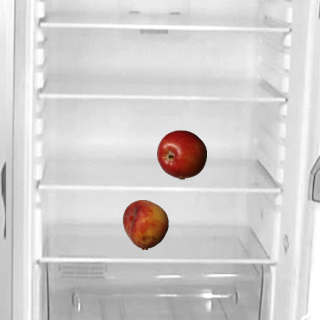Apple Braeburn: (156, 129, 206, 179)
Peach: (120, 199, 170, 249)
